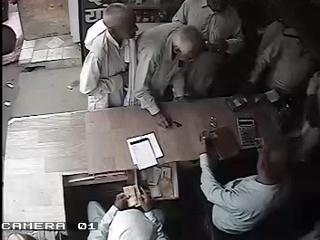Normal: (198, 103, 300, 240), (132, 22, 205, 128), (246, 0, 318, 96), (180, 0, 246, 99), (88, 181, 170, 240), (172, 0, 212, 32)
shoplifting: (79, 3, 139, 111)
